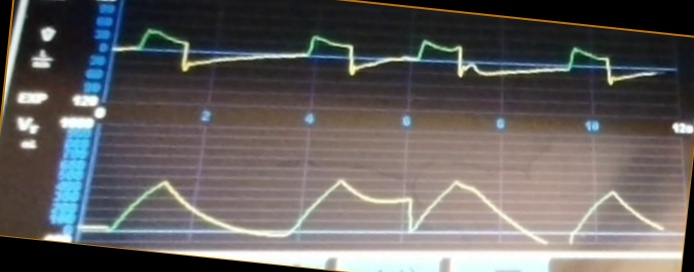Premature_cycling Flow: (117, 25, 659, 106)
Premature_cycling Volume: (90, 174, 661, 247)
